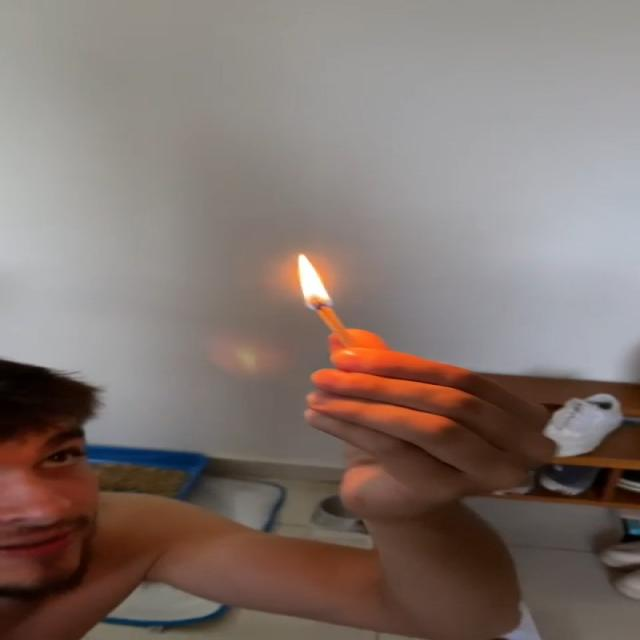fogo-ypXI: (294, 252, 334, 312)
